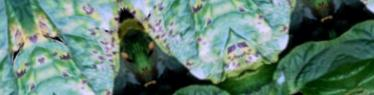Tomato Early blight leaf: (78, 0, 248, 95)
